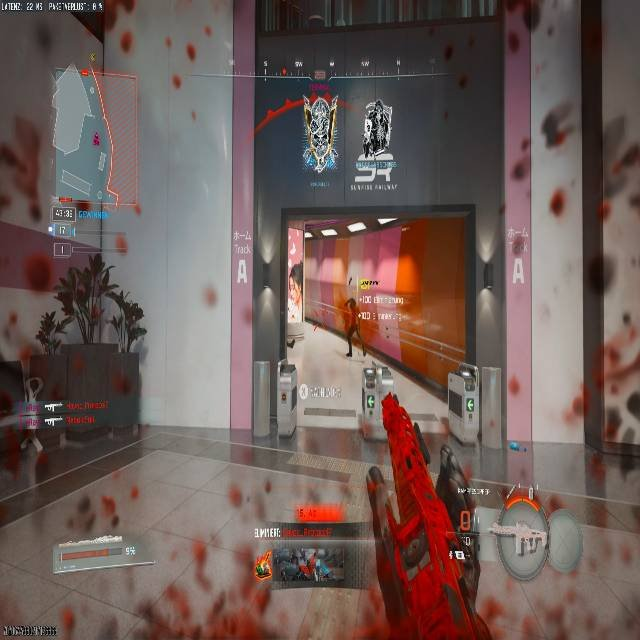head: (56, 254, 105, 303)
player: (361, 99, 392, 155), (340, 297, 365, 357)
